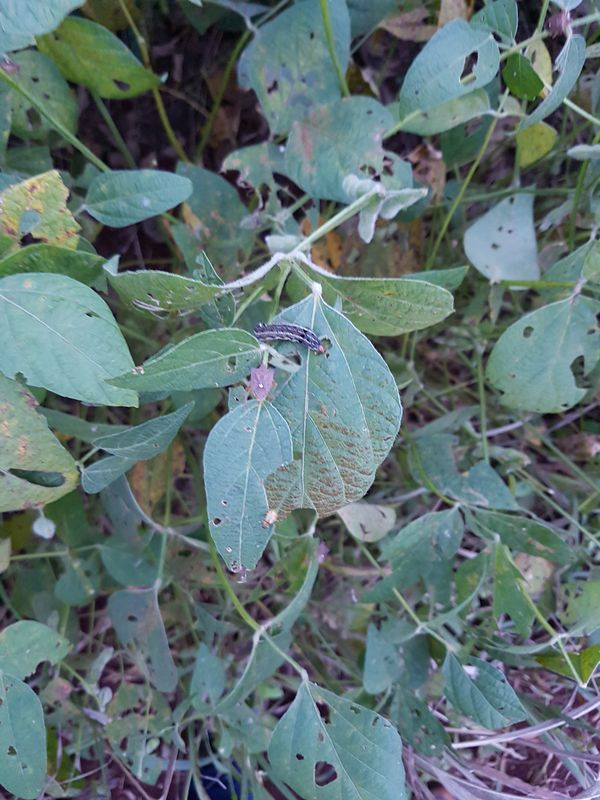Diabrotica_speciosa: (257, 505, 283, 533)
Euschistus_heros_adulto: (239, 357, 286, 406)
Spodoptera_albula: (246, 315, 331, 361)
